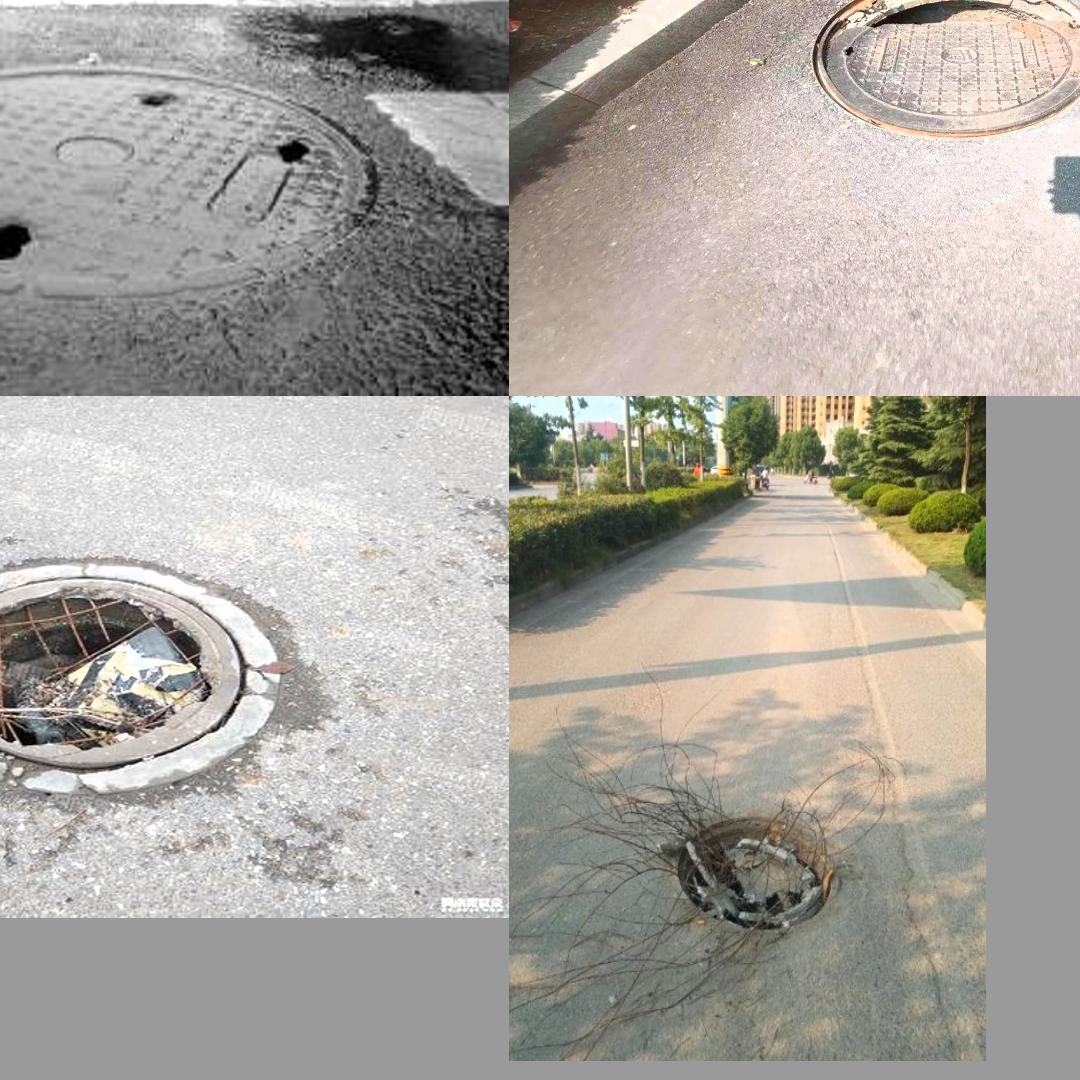broke: (0, 85, 386, 284), (0, 546, 292, 795), (817, 0, 1080, 137), (671, 813, 840, 930)
